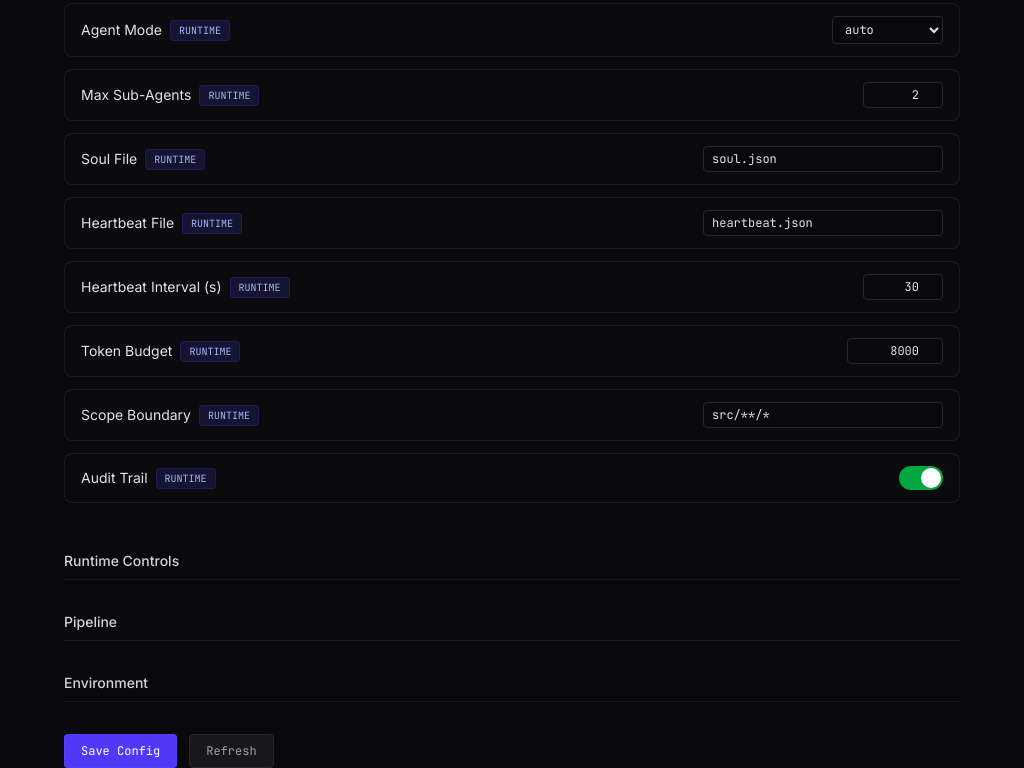
Test: Settings › clicking Runtime Controls section shows Adaptive Routing, Auto-Apply Fixes, Autonomy Kill Switch
(page scrolled)
Expected: the text "Adaptive Routing" is not shown
Click the button "Runtime Controls".
click(122, 560)  # box [64, 543, 960, 580]
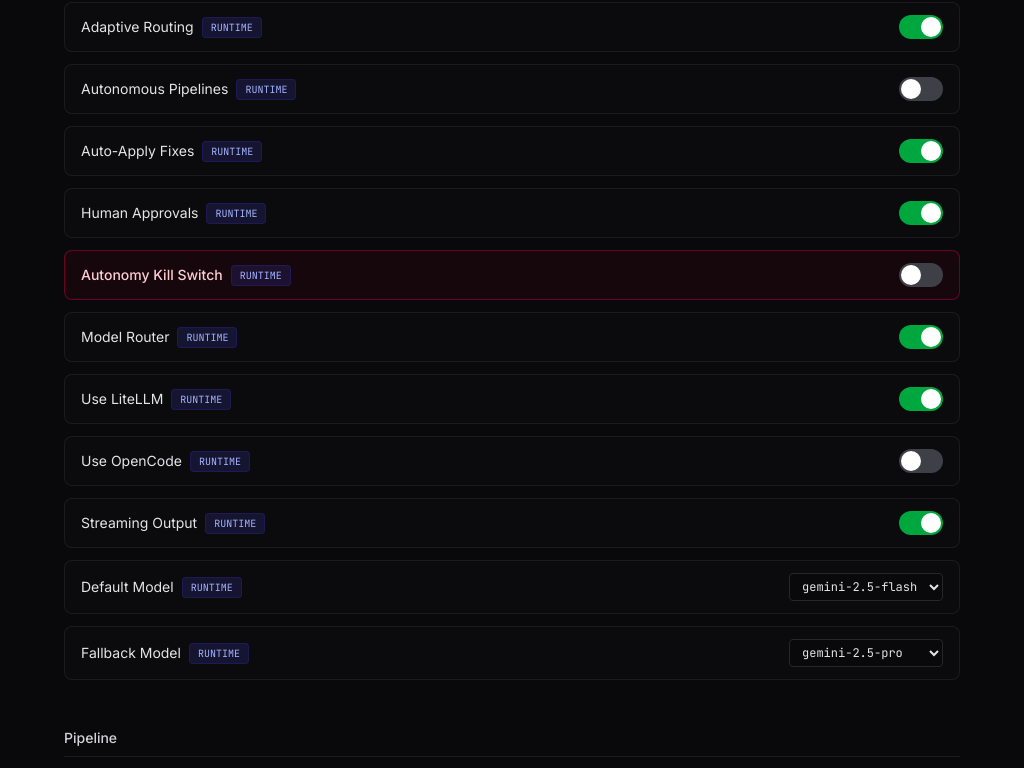
Result: the text "Adaptive Routing" is shown at [81, 17, 194, 37]
Result: the text "Auto-Apply Fixes" is shown at [81, 141, 194, 161]
Result: the text "Autonomy Kill Switch" is shown at [81, 265, 223, 285]
